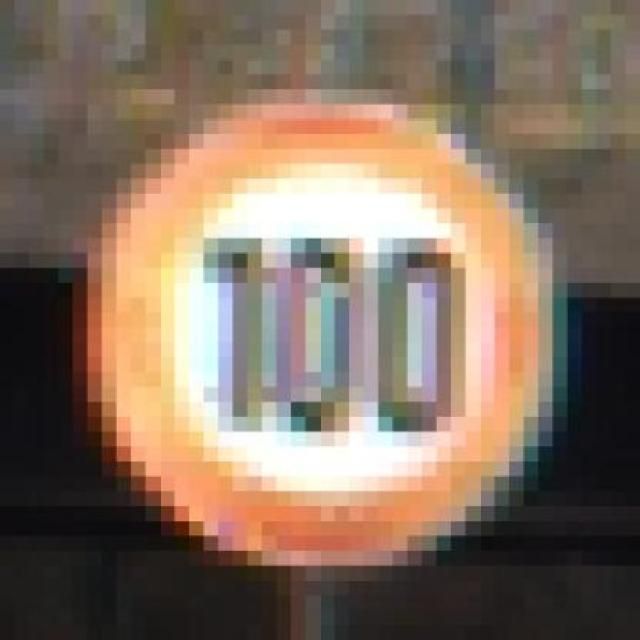forb_speed_over_100: (90, 112, 553, 566)
